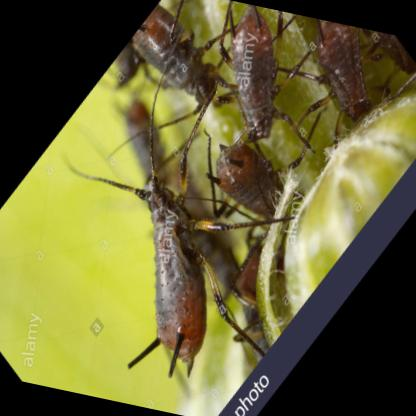uroleucon compositae: (83, 104, 230, 383)
